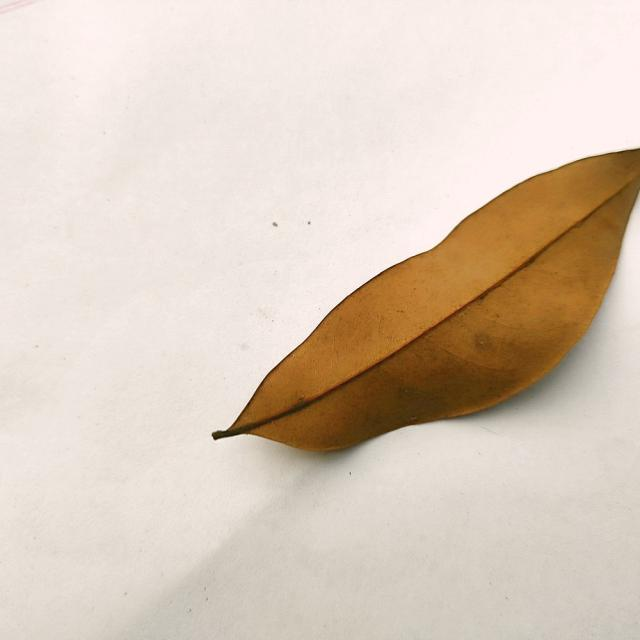Dry_Leaf-Lychee: (213, 147, 639, 456)
